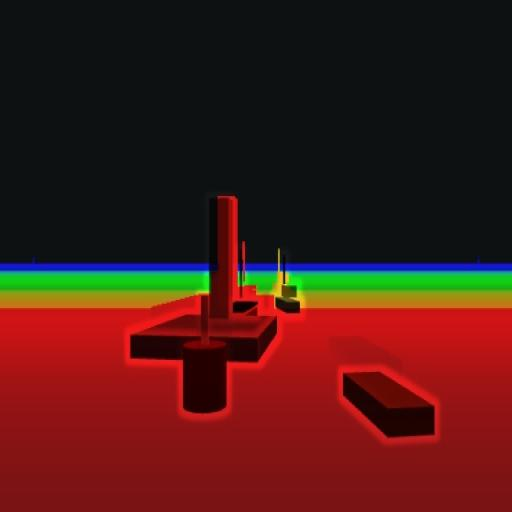platform: (128, 192, 280, 360)
